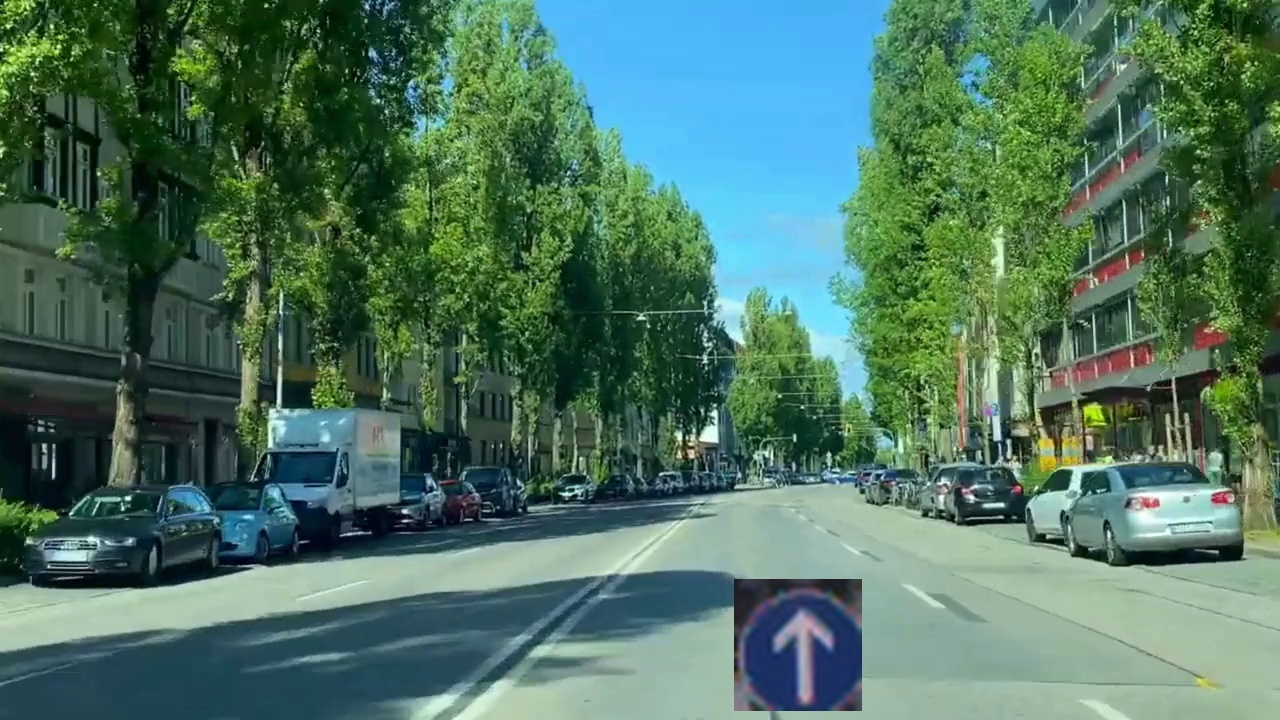Ahead only: (734, 579, 862, 711)
